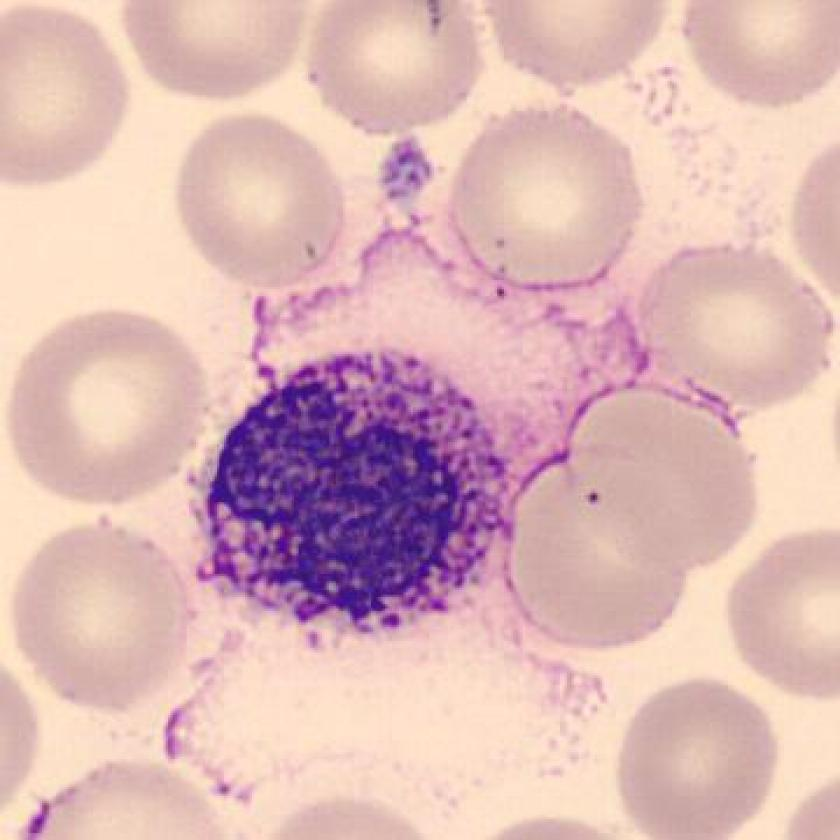basophil: (197, 339, 517, 660)
